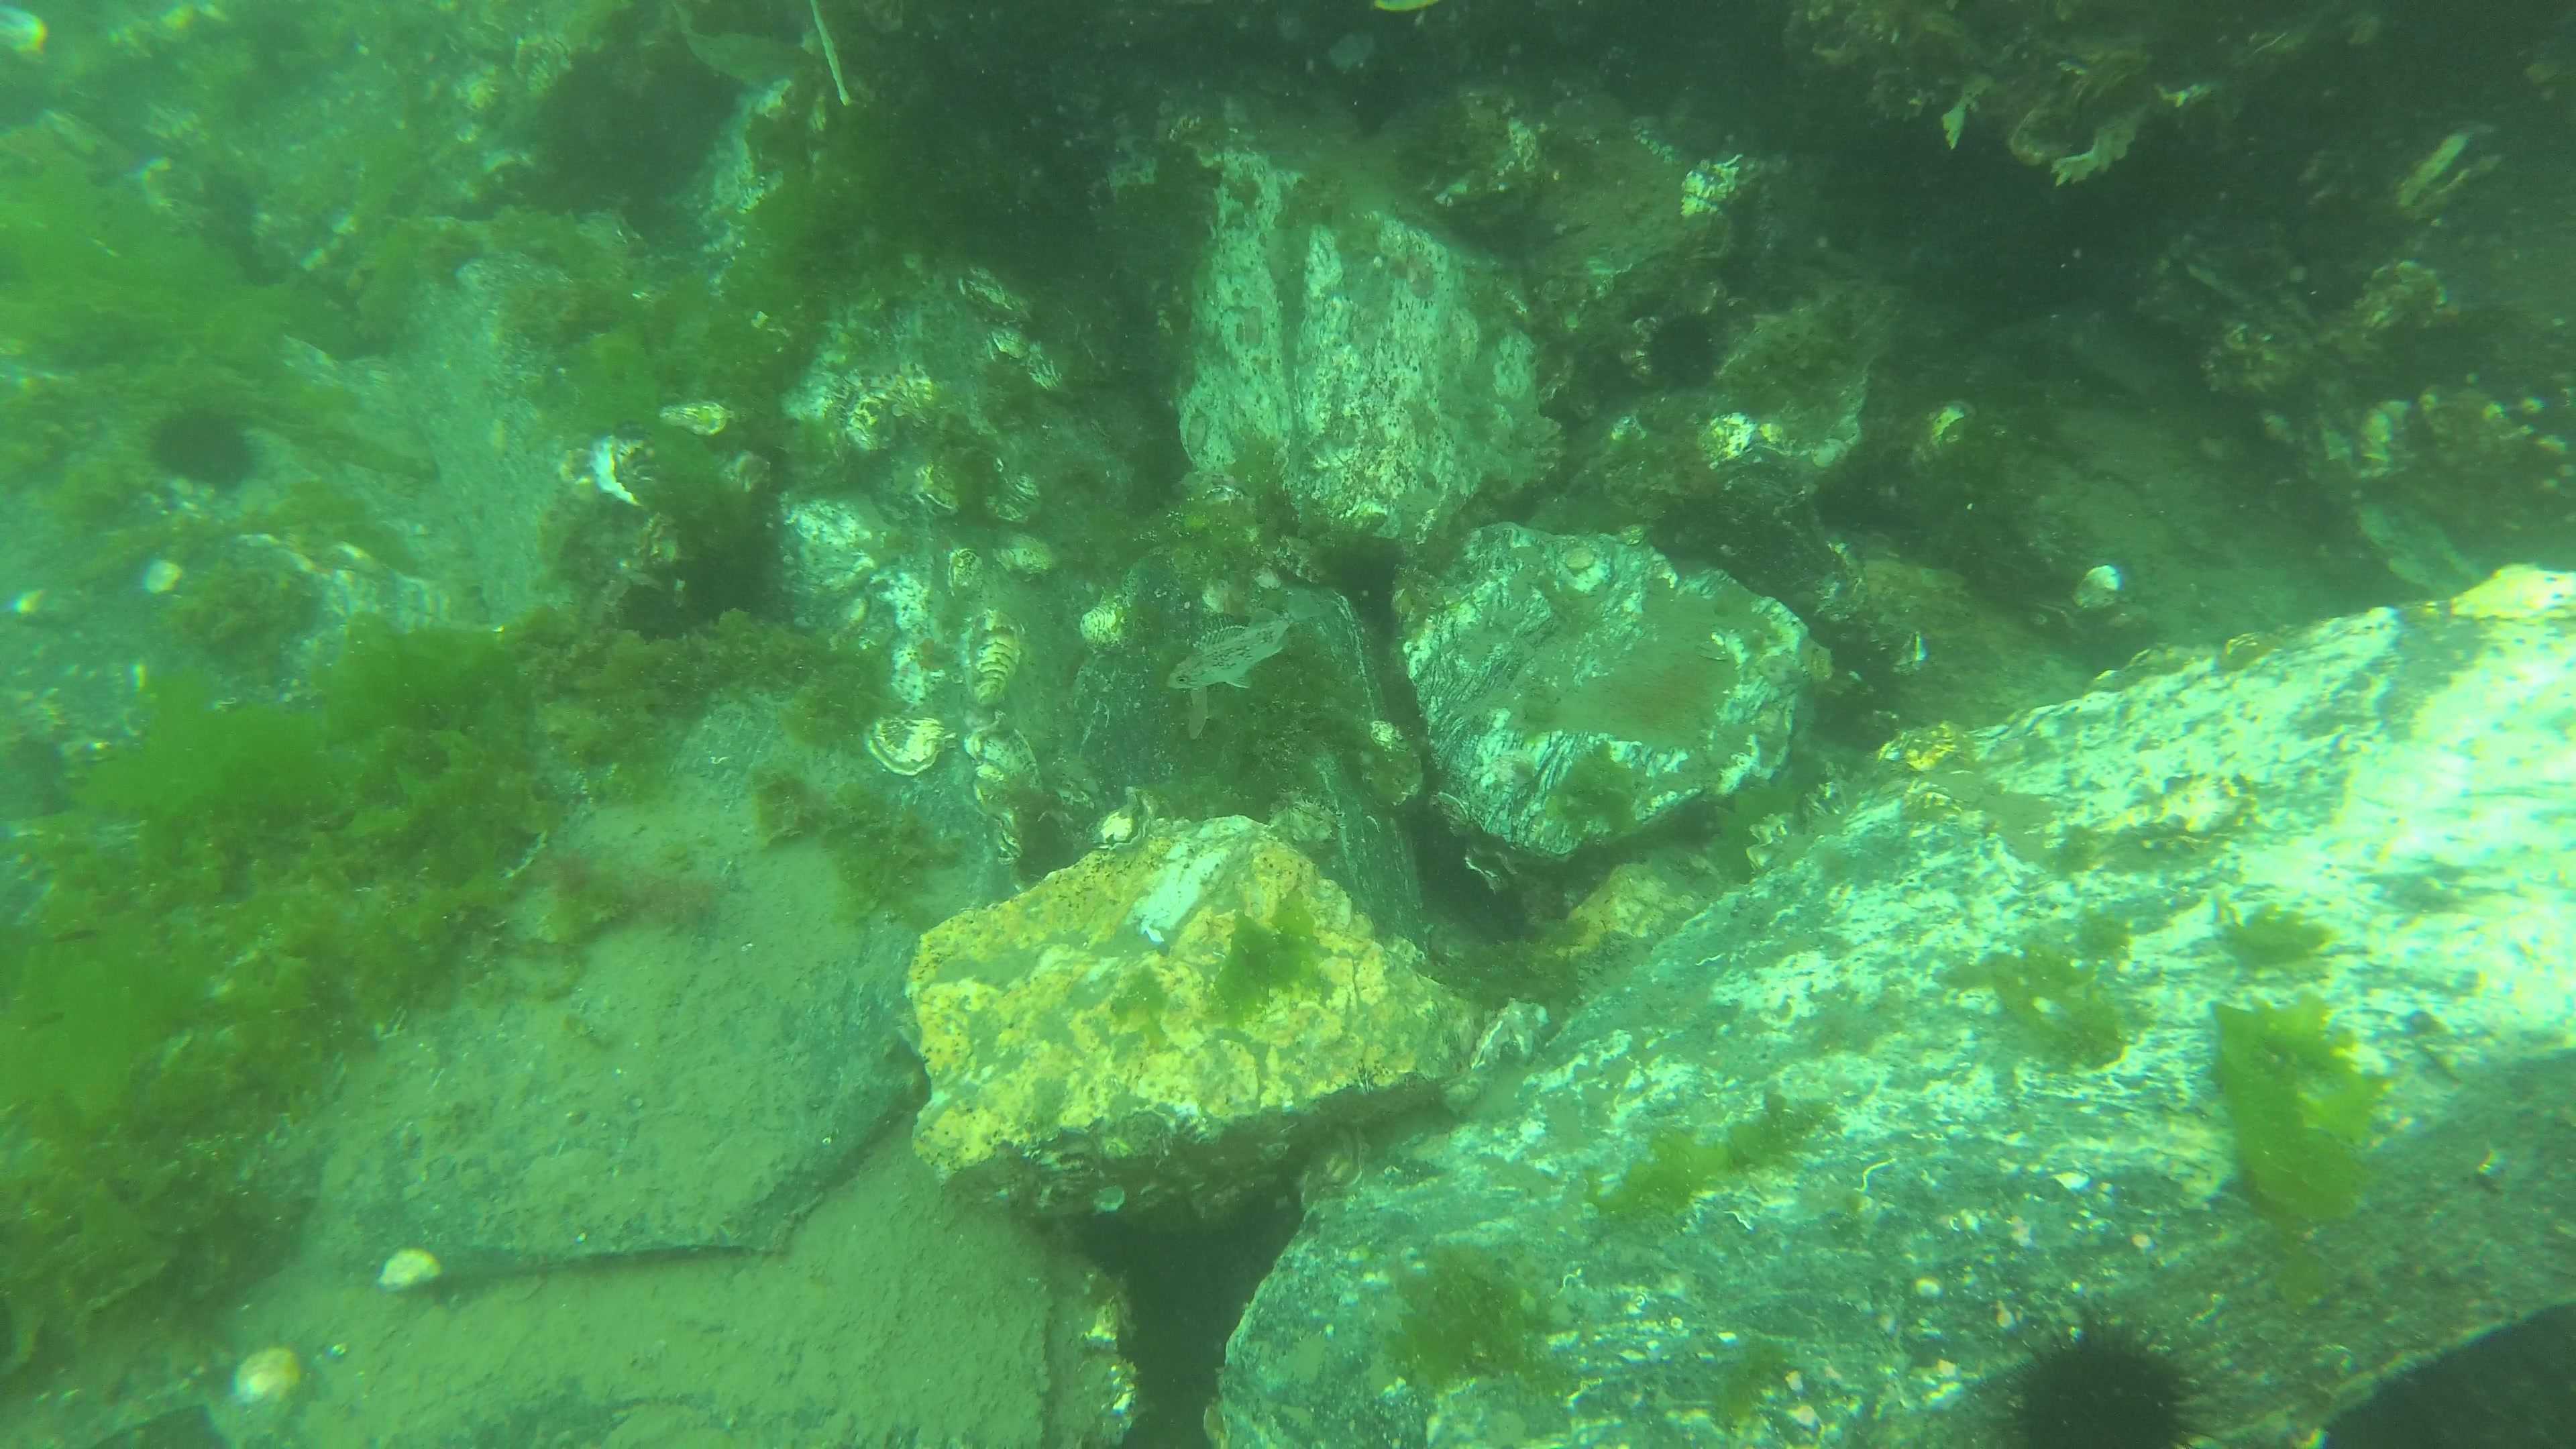echinus: (1994, 1304, 2220, 1449), (145, 402, 265, 485), (1640, 308, 1721, 382)
